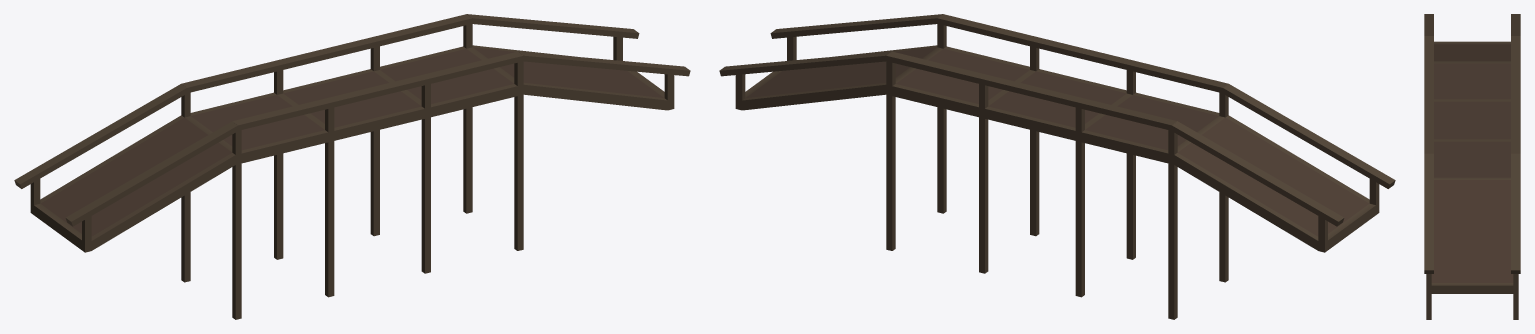
File: Bridge.fbx
3 views of the same model, side by side, from view 1: azimuth 30°, elevation 25°; view 2: azimuth 150°, elevation 25°; view 3: azimuth 270°, elevation 25° (orthographic). The views are drawn at different scales.
Parts seen in each view (by area): view 1: Bridge; view 2: Bridge; view 3: Bridge.
Part boxes in pixels (x1,y1,x2,y2): Bridge: [14, 14, 690, 319]; Bridge: [719, 14, 1395, 319]; Bridge: [1424, 14, 1520, 319].
Bounding box in the file's own units: 51.87 × 15.63 × 8.26.
